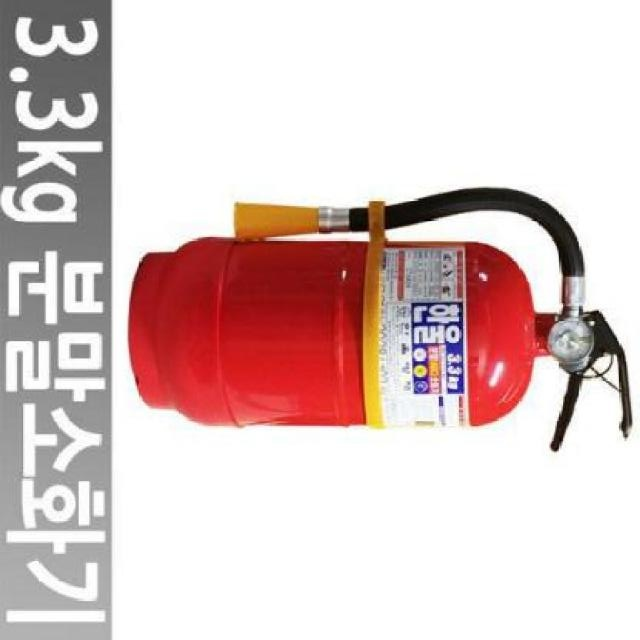fire extinguisher: (128, 185, 632, 453)
